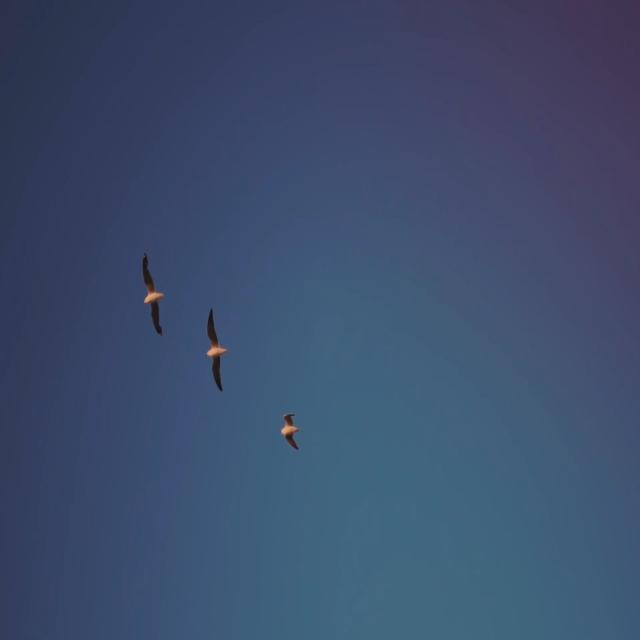bird: (140, 250, 166, 338), (204, 305, 228, 394), (278, 410, 300, 455)
